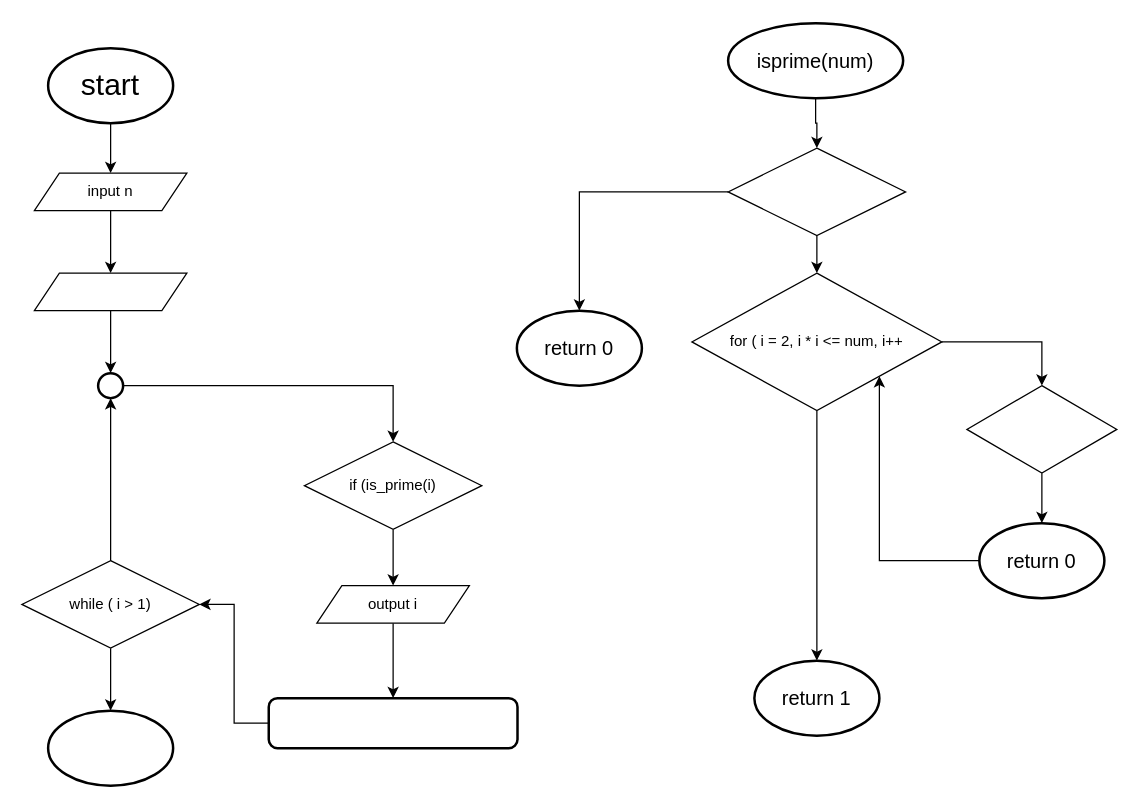
Some shapes in this 1139 by 808 pixel diagram are drawn without their labels. The shapes that lost their labels are listed below. From the top down, each one's centre as x and y in pixels, then its label:
pixel 816 191: if (num <= 1)
pixel 110 291: output "output"
pixel 1041 428: if (num % i == 0
pixel 392 722: i--
pixel 110 747: end
